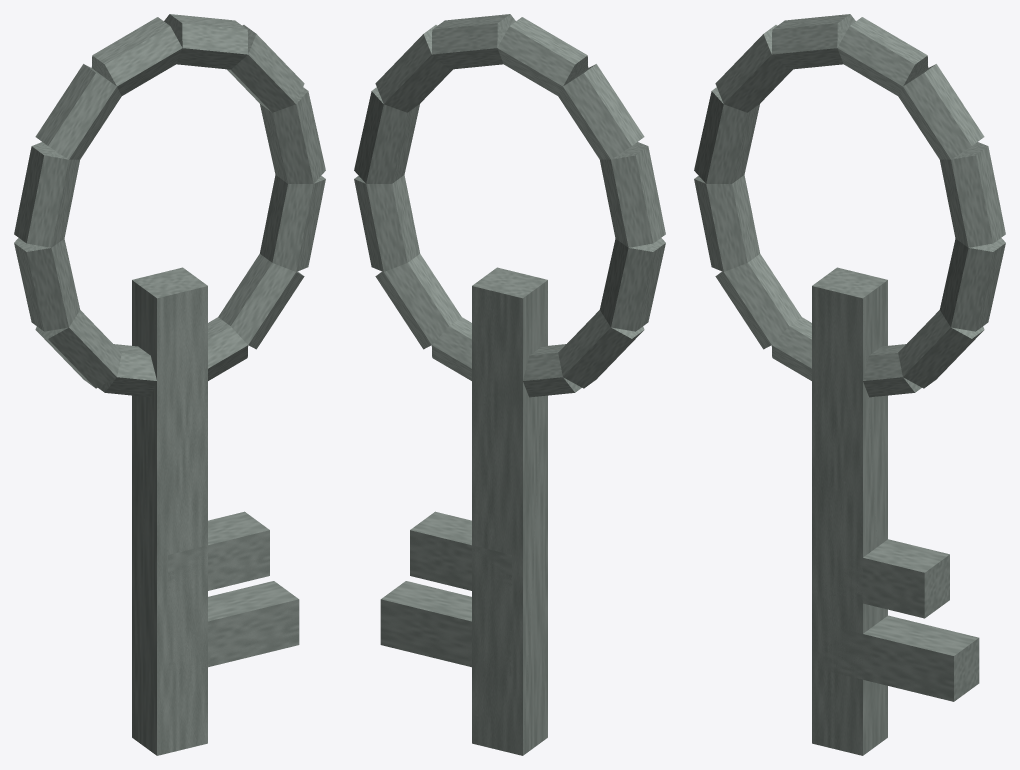
Rendered from Key.glb.
The picture shows the model from 3 angles, left to right: view 1: azimuth 30°, elevation 25°; view 2: azimuth 150°, elevation 25°; view 3: azimuth 330°, elevation 25°; orthographic projection.
Visible parts, largest first — view 1: Key; view 2: Key; view 3: Key.
Boxes of the visible parts, x1,y1,x2,y2 form: Key: (14, 14, 325, 755); Key: (354, 14, 665, 755); Key: (694, 14, 1005, 755).
Bounding box in the file's own units: 0.0411 × 0.0945 × 0.006.
1 material, 1 textured.
